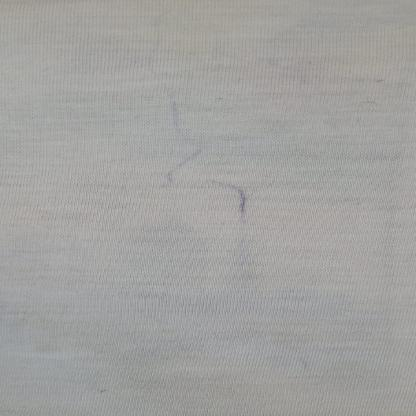spot: (160, 94, 206, 188), (213, 175, 257, 232), (178, 109, 200, 165)
